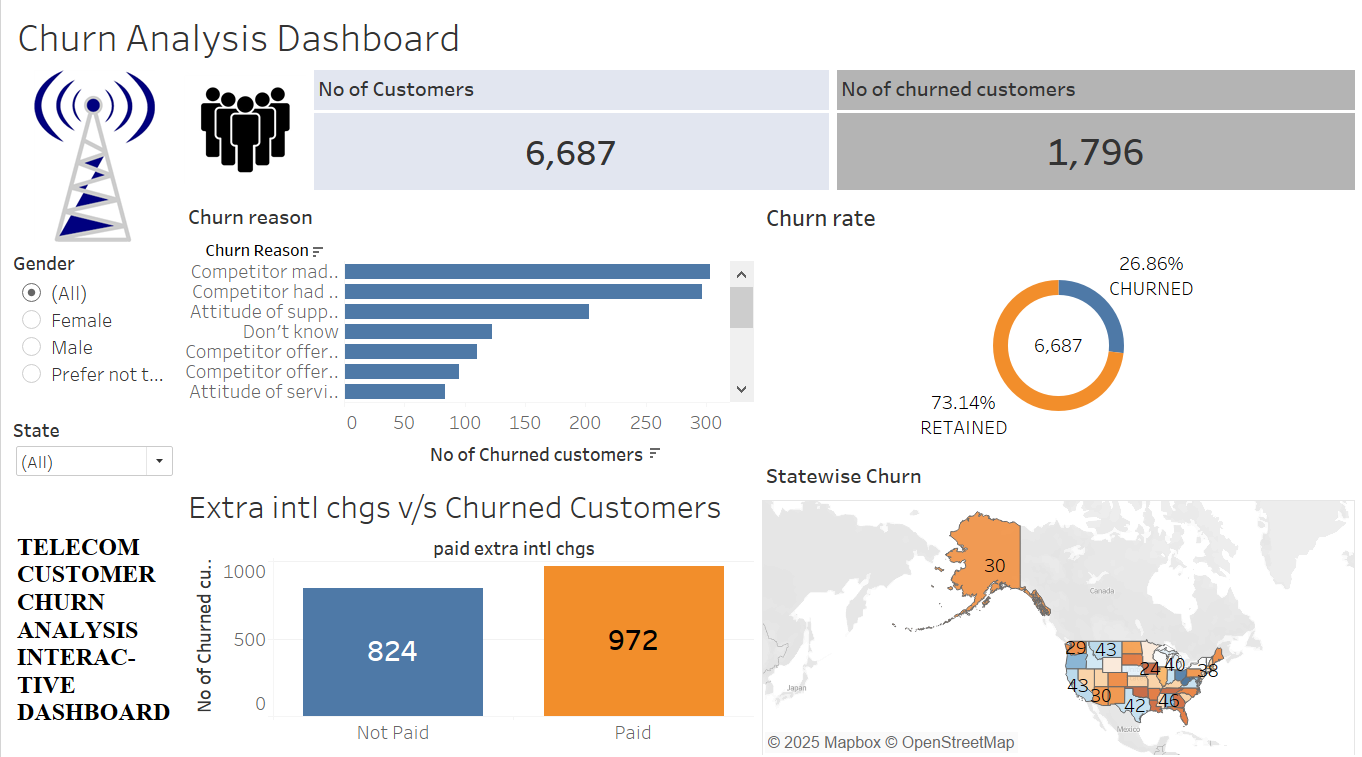

This screenshot's page, from the dashboard's own definition file:
{"tool":"tableau","page":{"name":"Churn Analysis Dashboard","canvas":[1366,768],"ordinal":0},"visuals":[{"type":"title","box":[8,8,1350,58]},{"type":"image","param":"Image/download (2).png","box":[8,66,171,179.9]},{"type":"image","param":"Image/360_F_127775822_dMDhxA5yBCxjoGmkIUj8qljgZUbA1YkV.jpg","box":[179,66,130,128.3]},{"type":"worksheet","title":"No of Customers","mark":"Automatic","box":[309,66,523,128.3]},{"type":"worksheet","title":"No of churned customers ","mark":"Automatic","box":[832,66,526,128.3]},{"type":"worksheet","title":"Churn reason ","mark":"Automatic","rows":["Churn Reason"],"cols":["Calculation_733242316367581184"],"box":[179,194.3,578,282.9]},{"type":"worksheet","title":"Churn rate","mark":"Pie","rows":["Calculation_696369095358394374","Calculation_696369095359090697"],"box":[757,194.3,601,258.4]},{"type":"filter","title":"Churn rate","param":"[federated.18pctyw106af9z19qcwwc0n5sz3b].[none:Gender:nk]","box":[8,245.9,171,148]},{"type":"filter","title":"Statewise Churn","param":"[federated.18pctyw106af9z19qcwwc0n5sz3b].[none:State:nk]","box":[8,413,171,88.6]},{"type":"worksheet","title":"Statewise Churn","mark":"Automatic","box":[757,452.7,601,307.3]},{"type":"worksheet","title":"Extra intl chgs v/s Churned Customers","mark":"Automatic","rows":["Calculation_733242316367581184"],"cols":["Calculation_969681300240982016"],"box":[179,477.1,578,282.9]},{"type":"text","box":[8,501.6,171,258.4]}]}

Visuals, with their boxes in screenshot pixels (x1, y1, x2, y2), scaled from the page's 1366x768 canvas onto the 1362x757 screenshot:
title: 8/8/1354/65
image: 8/65/178/242
image: 178/65/308/192
"No of Customers" worksheet: 308/65/830/192
"No of churned customers " worksheet: 830/65/1354/192
"Churn reason " worksheet: 178/192/755/470
"Churn rate" worksheet (Pie marks): 755/192/1354/446
"Churn rate" filter: 8/242/178/388
"Statewise Churn" filter: 8/407/178/494
"Statewise Churn" worksheet: 755/446/1354/749
"Extra intl chgs v/s Churned Customers" worksheet: 178/470/755/749
text: 8/494/178/749
